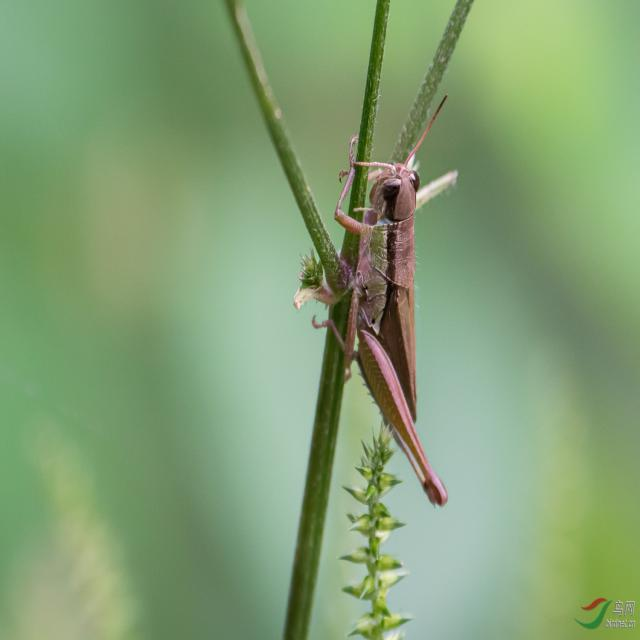ZhaMeng: (337, 84, 463, 510)
